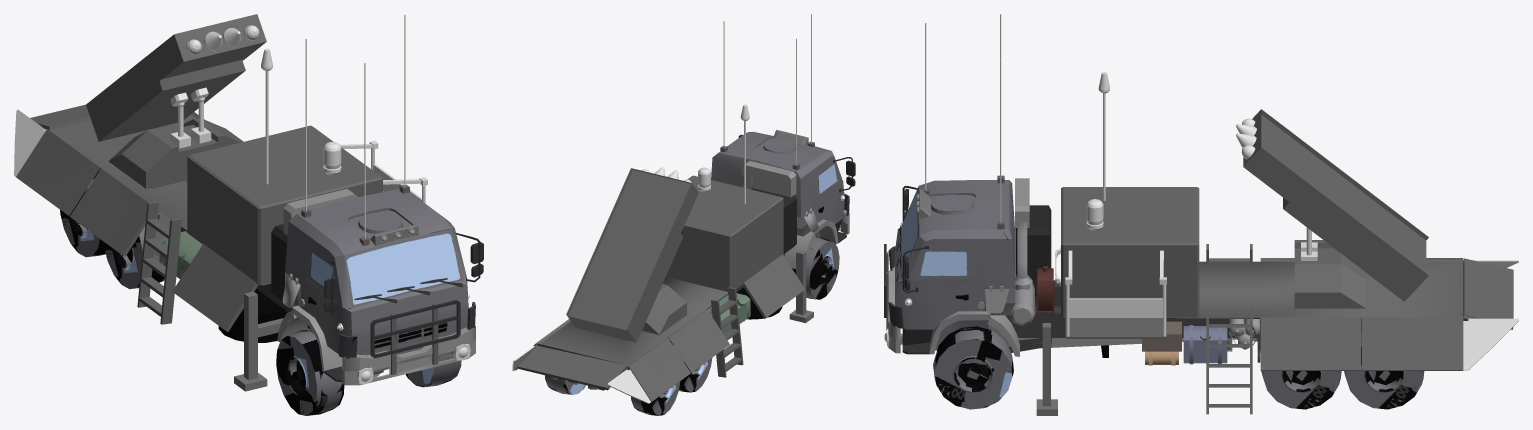
Rendered from cracked ladder only.fbx.
The picture shows the model from 3 angles, left to right: view 1: azimuth 30°, elevation 25°; view 2: azimuth 150°, elevation 25°; view 3: azimuth 270°, elevation 25°; orthographic projection. The views are drawn at different scales.
Parts seen in each view (by area): view 1: Куб.131, Куб.136, Cube, Cube.002, Цилиндр.051, Cube.001, Cube.008, Куб.096, Cube.016, Cube.007, Цилиндр.053, Cube.011 (+17 smaller); view 2: Куб.136, Cube.002, Cube, Куб.131, Цилиндр.051, Cube.008, Цилиндр.059, Cube.001, Цилиндр.001, Cube.015, Cube.016, Cube.011 (+6 smaller); view 3: Куб.136, Cube, Куб.131, Cube.002, Цилиндр.051, Cube.001, Цилиндр.001, Цилиндр.053, Цилиндр.059, Куб.118, Cube.018, Cube.015 (+12 smaller).
Boxes of the visible parts, x1,y1,x2,y2 form: Куб.131: [285, 188, 475, 372]; Куб.136: [16, 104, 270, 331]; Cube: [187, 125, 382, 285]; Cube.002: [86, 14, 266, 141]; Цилиндр.051: [276, 329, 461, 415]; Cube.001: [108, 118, 243, 188]; Cube.008: [137, 201, 181, 324]; Куб.096: [342, 325, 475, 385]; Cube.016: [234, 291, 283, 391]; Cube.007: [370, 300, 460, 358]; Цилиндр.053: [103, 226, 164, 289]; Cube.011: [14, 109, 45, 176]; Куб.136: [515, 254, 805, 401]; Cube.002: [566, 168, 698, 342]; Cube: [666, 175, 783, 291]; Куб.131: [711, 131, 849, 237]; Цилиндр.051: [792, 237, 839, 299]; Cube.008: [711, 287, 743, 377]; Цилиндр.059: [740, 161, 796, 197]; Cube.001: [642, 284, 686, 334]; Цилиндр.001: [545, 375, 680, 415]; Cube.015: [751, 188, 796, 253]; Cube.016: [789, 250, 813, 323]; Cube.011: [607, 369, 650, 403]; Куб.136: [1065, 258, 1513, 370]; Cube: [1061, 187, 1199, 317]; Куб.131: [888, 180, 1014, 350]; Cube.002: [1243, 109, 1428, 301]; Цилиндр.051: [933, 326, 1013, 409]; Cube.001: [1294, 240, 1365, 308]; Цилиндр.001: [1344, 334, 1424, 409]; Цилиндр.053: [1261, 371, 1341, 409]; Цилиндр.059: [1009, 178, 1034, 325]; Куб.118: [1006, 280, 1468, 352]; Cube.018: [1068, 298, 1163, 317]; Cube.015: [1015, 205, 1051, 296].
Size of the model in its own units: 709 by 1202 by 2029.
66 materials, 2 textured.
